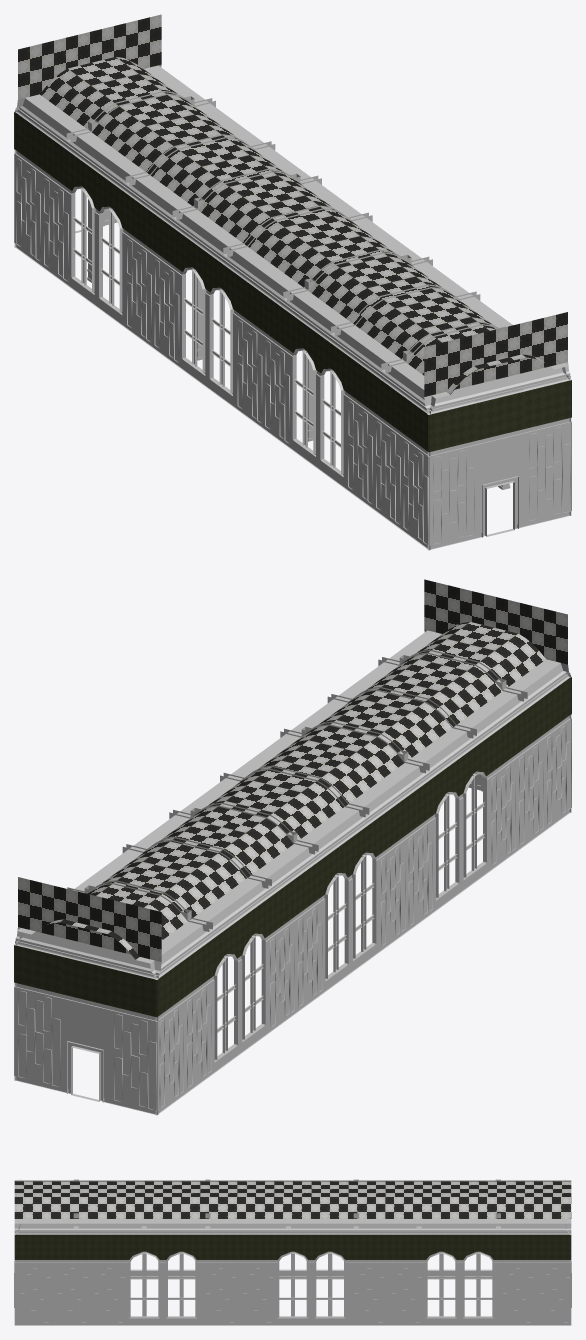
File: Big_room.fbx
3 renders of one model, top to bottom at view 1: azimuth 30°, elevation 25°; view 2: azimuth 150°, elevation 25°; view 3: azimuth 270°, elevation 25°, orthographic. The views are drawn at different scales.
Parts seen in each view (by area): view 1: Plane.039; view 2: Plane.039; view 3: Plane.039.
Boxes of the visible parts, <box> form: Plane.039: <box>14,14,571,550</box>; Plane.039: <box>14,579,571,1115</box>; Plane.039: <box>14,1179,571,1325</box>.
Size of the model in its own units: 615 by 800 by 3008.
